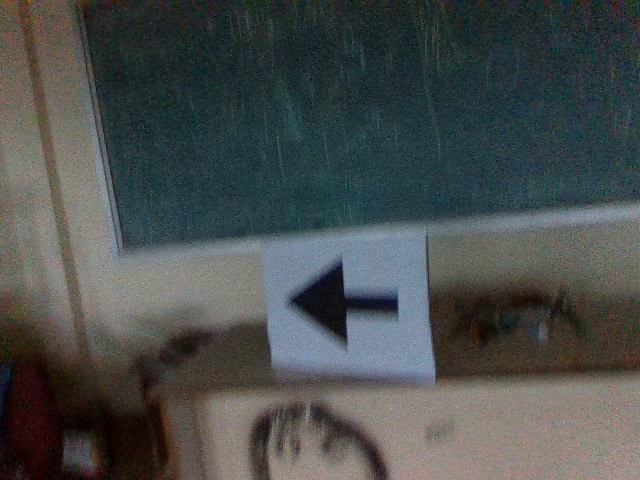Left: (281, 248, 407, 357)
